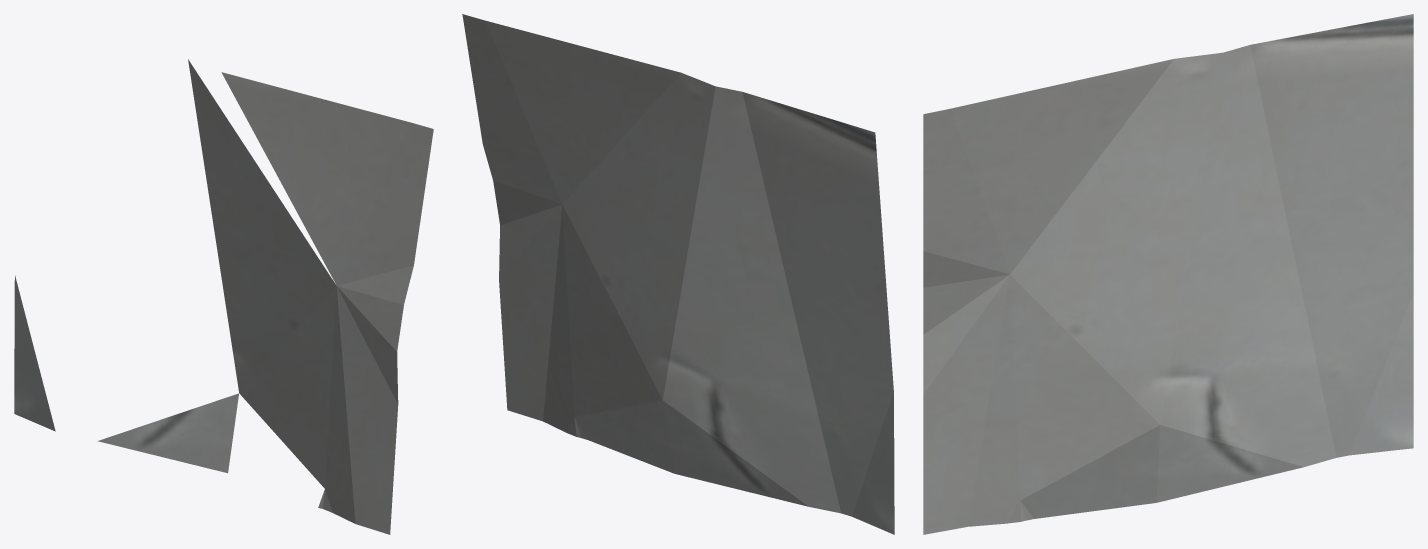
The picture shows the model from 3 angles, left to right: view 1: azimuth 30°, elevation 25°; view 2: azimuth 210°, elevation 25°; view 3: azimuth 270°, elevation 25°; orthographic projection. The views are drawn at different scales.
Bounding box in the file's own units: 0.4468 × 0.8374 × 0.8374.
3 materials, 3 textured.
